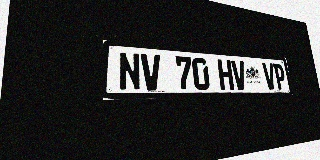0: (191, 57, 210, 90)
7: (174, 56, 194, 90)
H: (217, 59, 234, 90)
N: (118, 52, 141, 91)
P: (273, 63, 287, 89)
V: (141, 53, 162, 91), (231, 60, 247, 90), (262, 63, 277, 90)
